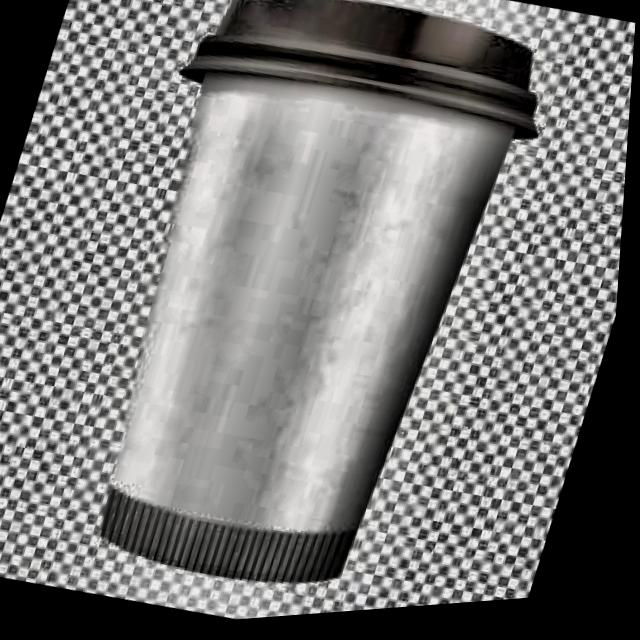Cup: (27, 0, 584, 636)
